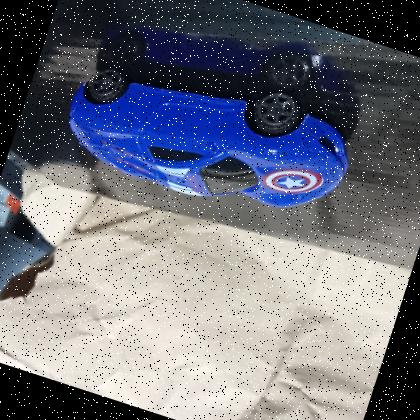Car: (49, 25, 371, 249)
